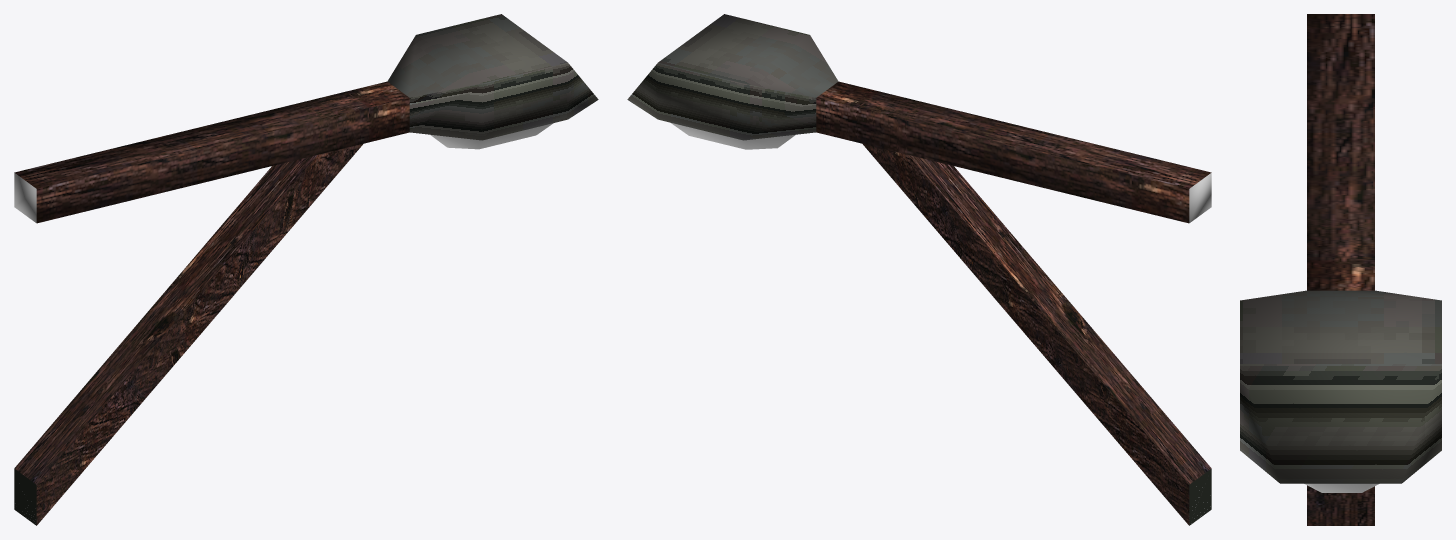
File: M3_WallMount_Lamp.glb
3 views of the same model, side by side, from view 1: azimuth 30°, elevation 25°; view 2: azimuth 150°, elevation 25°; view 3: azimuth 270°, elevation 25° (orthographic). The views are drawn at different scales.
Parts seen in each view (by area): view 1: M3_WALLMOUNT_LAMP; view 2: M3_WALLMOUNT_LAMP; view 3: M3_WALLMOUNT_LAMP.
Part boxes in pixels (<box>): M3_WALLMOUNT_LAMP: <box>14,14,598,525</box>; M3_WALLMOUNT_LAMP: <box>627,14,1211,525</box>; M3_WALLMOUNT_LAMP: <box>1240,14,1441,525</box>.
Bounding box in the file's own units: 2.71 × 1.66 × 0.564.
Materials: 3 (2 with a texture image).
